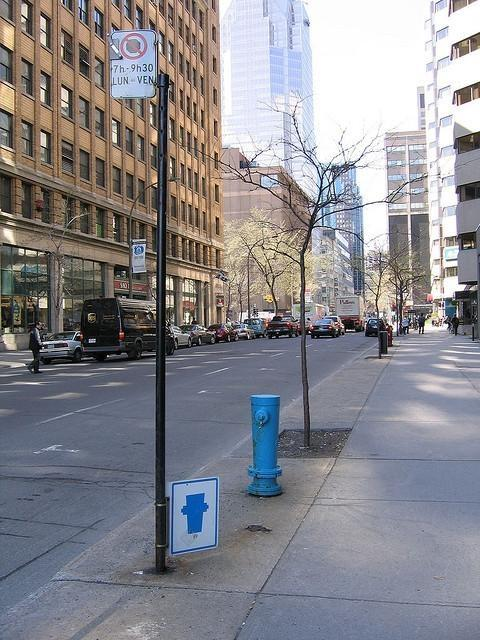bus: (292, 303, 330, 331)
car: (39, 331, 82, 364), (179, 324, 216, 346), (207, 324, 239, 344), (311, 319, 340, 338), (244, 318, 268, 338), (173, 326, 192, 348), (364, 318, 387, 336), (232, 324, 256, 340), (324, 316, 344, 335), (296, 317, 314, 334)
truck: (80, 297, 178, 364), (336, 295, 366, 332), (292, 304, 326, 330), (266, 316, 299, 338)
